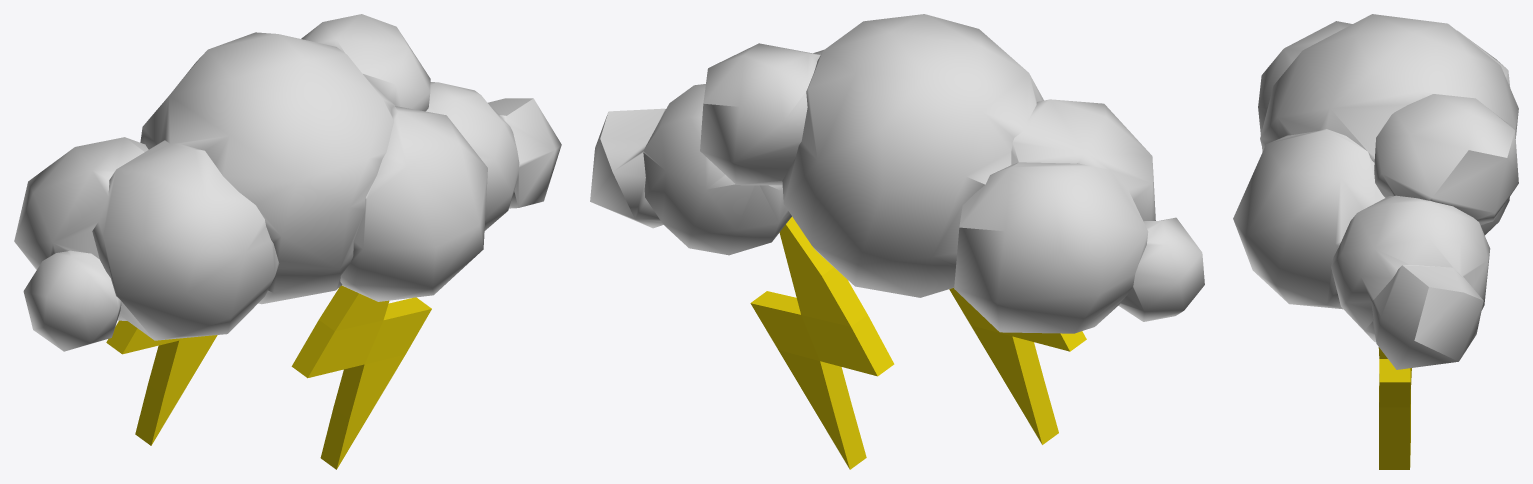
The model's file is cloud_thunder.gltf.
3 renders of one model, left to right at view 1: azimuth 30°, elevation 25°; view 2: azimuth 150°, elevation 25°; view 3: azimuth 270°, elevation 25°, orthographic. The views are drawn at different scales.
Parts seen in each view (by area): view 1: Object_2, Cube_Material.001_0.001, Cube; view 2: Object_2, Cube_Material.001_0.001, Cube; view 3: Object_2, Cube_Material.001_0.001.
Boxes of the visible parts, <box> form: Object_2: <box>14,14,561,351</box>; Cube_Material.001_0.001: <box>291,285,431,469</box>; Cube: <box>106,320,217,445</box>; Object_2: <box>590,14,1204,333</box>; Cube_Material.001_0.001: <box>750,216,894,469</box>; Cube: <box>949,288,1086,444</box>; Object_2: <box>1233,14,1518,369</box>; Cube_Material.001_0.001: <box>1378,347,1411,469</box>.
Size of the model in its own units: 3.65 by 2.73 by 1.69.
